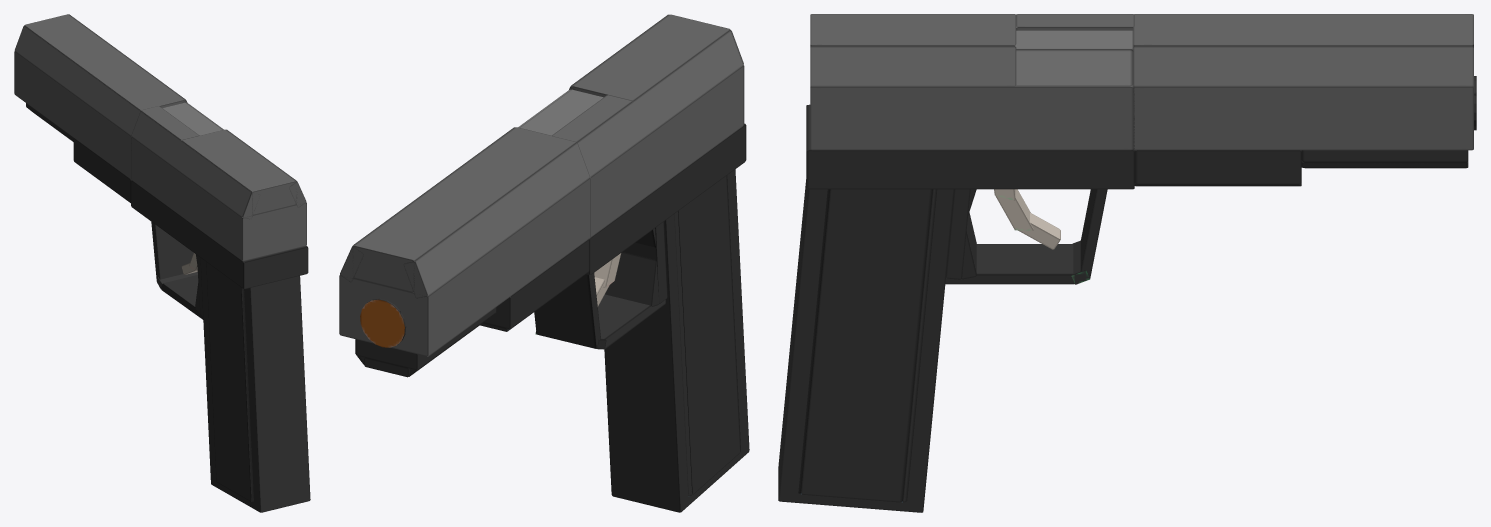
The model's file is Pistol.obj.
3 views of the same model, side by side, from view 1: azimuth 30°, elevation 25°; view 2: azimuth 150°, elevation 25°; view 3: azimuth 270°, elevation 25° (orthographic). The views are drawn at different scales.
Parts seen in each view (by area): view 1: cube, cylinder; view 2: cube, cylinder; view 3: cube, cylinder.
Part boxes in pixels (left/top/right/bottom): cube: left=14, top=14, right=306, bottom=274; cylinder: left=26, top=103, right=310, bottom=512; cube: left=339, top=14, right=744, bottom=356; cylinder: left=355, top=123, right=749, bottom=512; cube: left=810, top=14, right=1473, bottom=249; cylinder: left=778, top=76, right=1476, bottom=512.
Size of the model in its own units: 0.125 by 0.5961 by 0.8103.
1 material, 1 textured.
